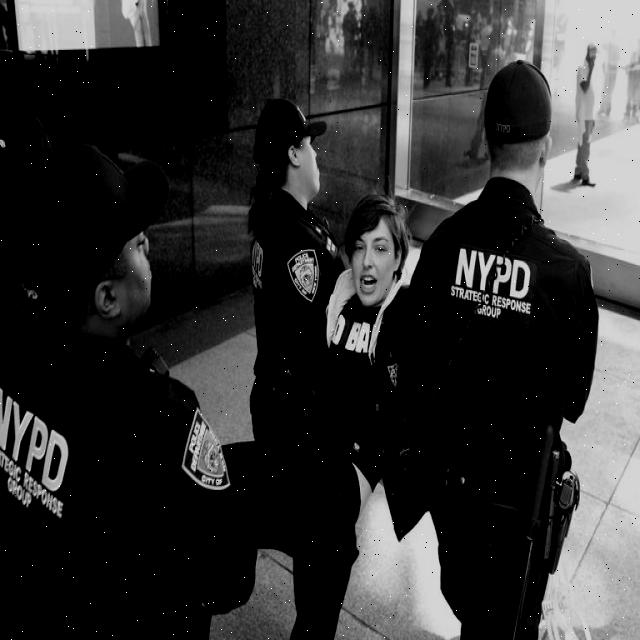police: (395, 39, 601, 638), (0, 109, 222, 640), (203, 71, 339, 532)
